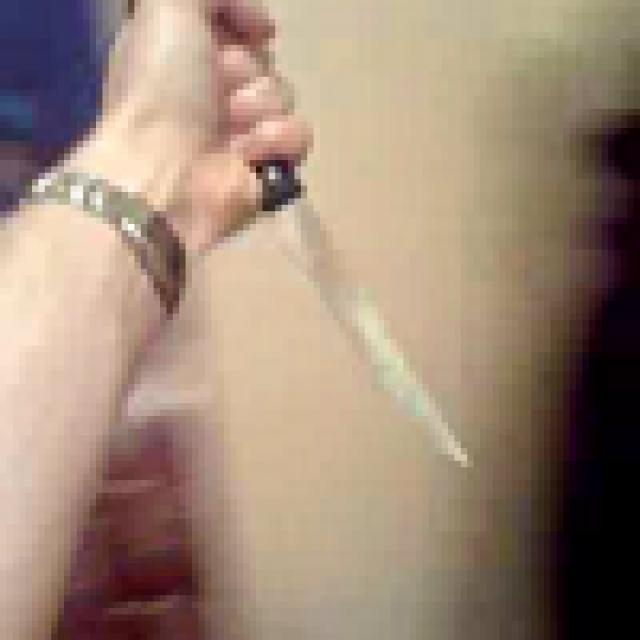Knife: (120, 0, 479, 480)
